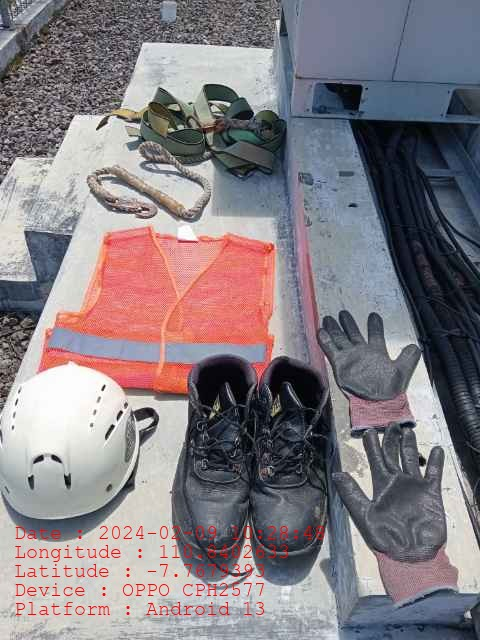HELM: (1, 362, 140, 521)
SARUNG_TANGAN: (329, 423, 463, 611), (320, 308, 421, 432)
TAMBANG_SLING: (84, 140, 212, 223)
